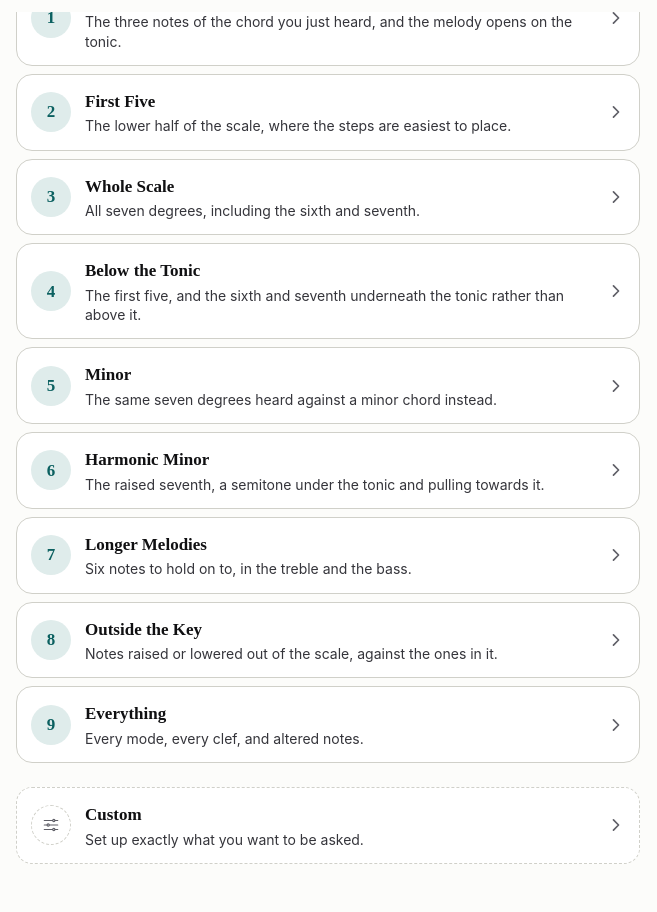
Scenario: Scale Degrees › reaches its settings from Custom
The width and height of the screenshot is (657, 912).
Click the text "Custom" at (113, 815), box left=85, top=805, right=142, bottom=824
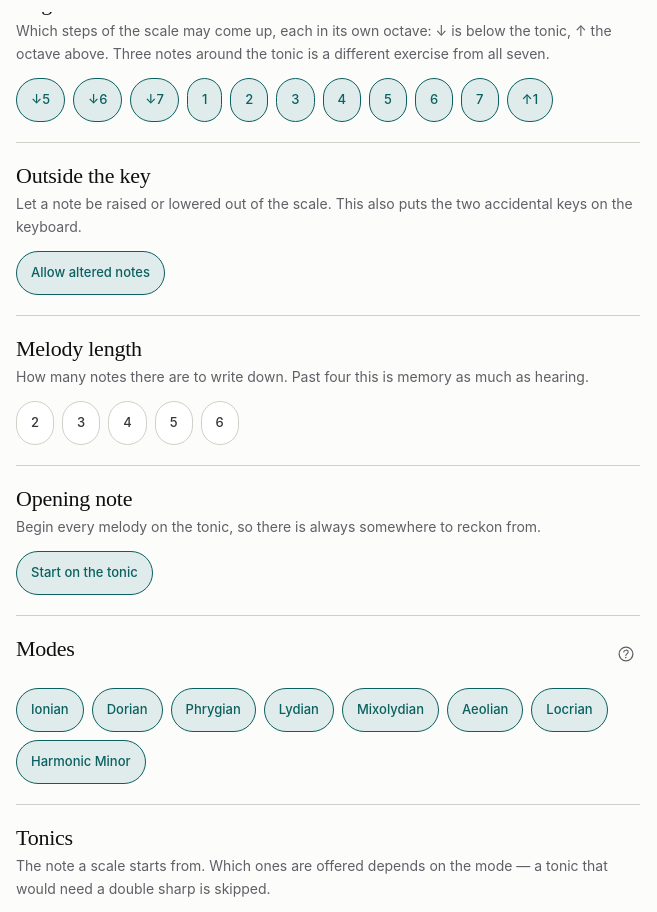
Expected: the heading "Outside the key" is shown, left=16, top=163, right=150, bottom=189
Now the heading "Melody length" is shown, box left=16, top=336, right=142, bottom=362
